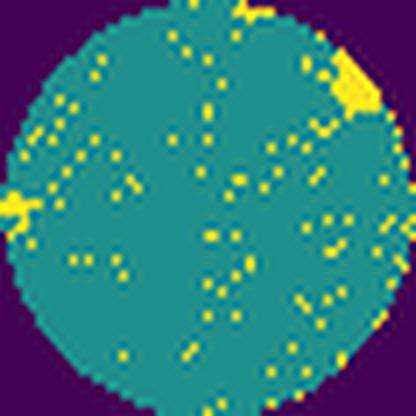Edge-Loc: (314, 47, 389, 124)
